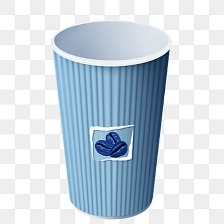paper_cup: (45, 14, 178, 222)
